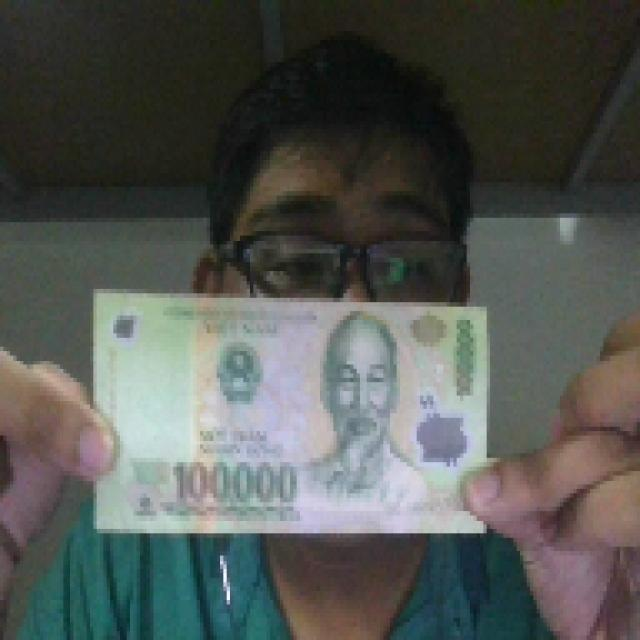100 000 VND: (86, 280, 496, 542)
